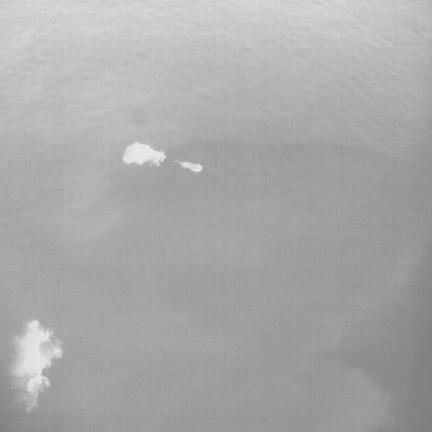flukeprints: (12, 320, 62, 402), (123, 143, 165, 165), (176, 161, 202, 172)
